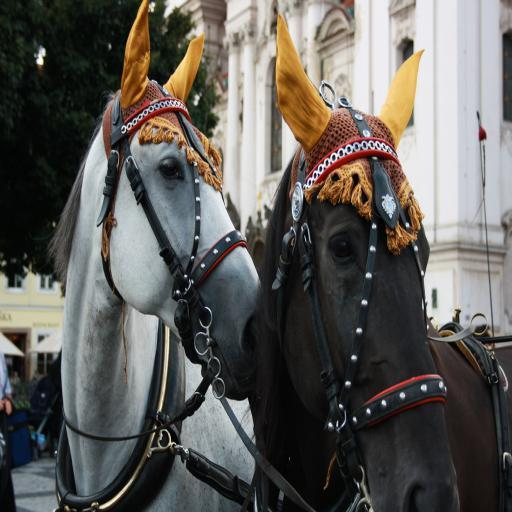horse: (236, 12, 512, 512), (42, 0, 257, 511)
